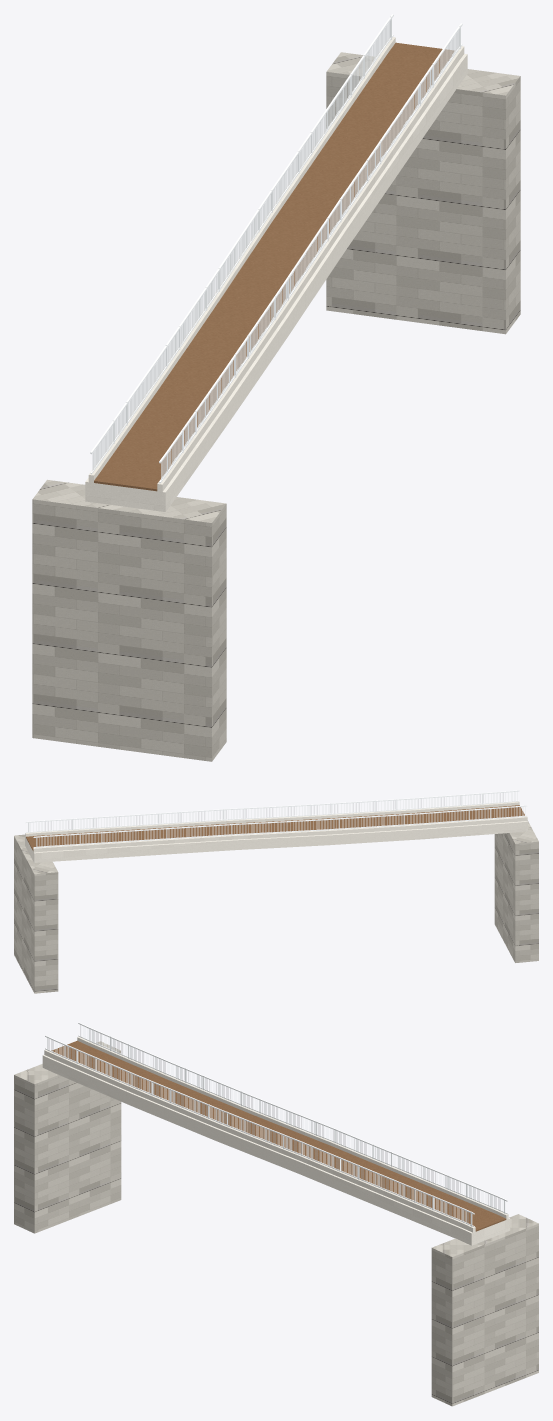
The model's file is footbridge-2.glb.
3 renders of one model, top to bottom at view 1: azimuth 30°, elevation 25°; view 2: azimuth 150°, elevation 25°; view 3: azimuth 270°, elevation 25°, orthographic. The views are drawn at different scales.
Parts seen in each view (by area): view 1: Abutment, Surface, DeckSlab, TopRail; view 2: Abutment, DeckSlab, TopRail, Surface; view 3: Abutment, DeckSlab, TopRail, Surface.
Part boxes in pixels (x1,y1,x2,y2): Abutment: (32, 52, 520, 761); Surface: (94, 42, 453, 491); DeckSlab: (85, 37, 467, 511); TopRail: (90, 14, 462, 483); Abutment: (14, 820, 538, 993); DeckSlab: (25, 801, 527, 862); TopRail: (25, 790, 527, 848); Surface: (26, 805, 524, 850); Abutment: (14, 1041, 538, 1406); DeckSlab: (42, 1036, 510, 1245); TopRail: (45, 1022, 507, 1226); Surface: (51, 1040, 506, 1231).
Bounding box in the file's own units: 40.12 × 15.9 × 37.91.
5 materials, 3 textured.
